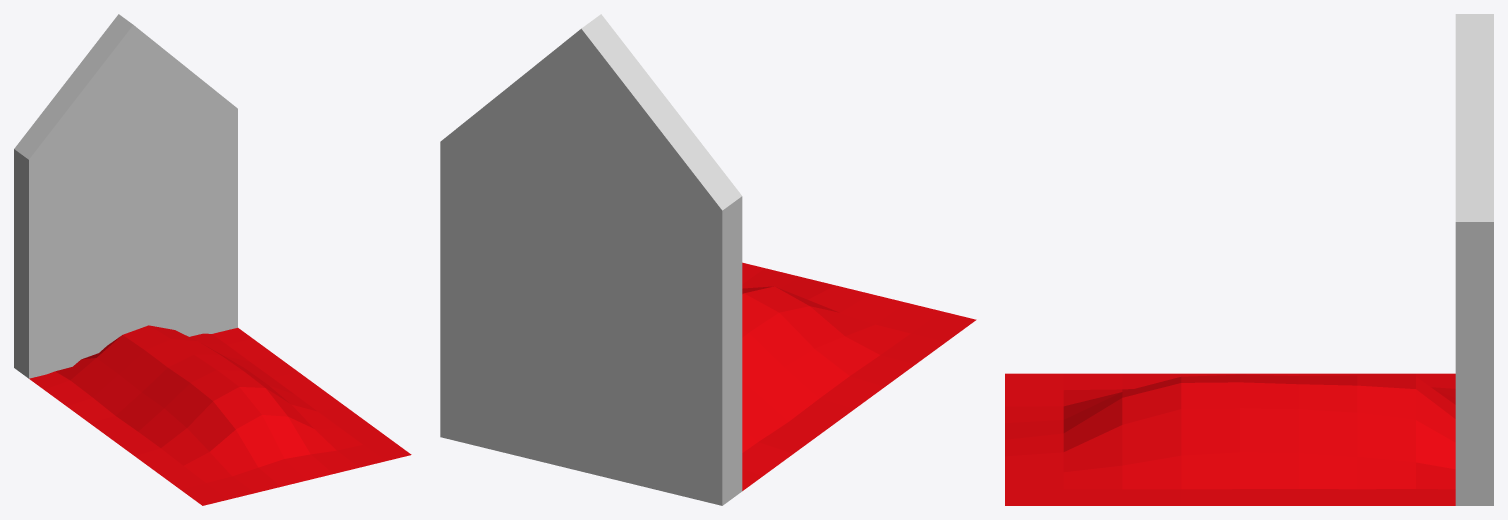
Rendered from Grave_01.fbx.
The picture shows the model from 3 angles, left to right: view 1: azimuth 30°, elevation 25°; view 2: azimuth 150°, elevation 25°; view 3: azimuth 270°, elevation 25°; orthographic projection. The views are drawn at different scales.
Visible parts, largest first — view 1: Cube.003, Plane; view 2: Cube.003, Plane; view 3: Plane, Cube.003.
Boxes of the visible parts, bbox=[...] form: Cube.003: bbox=[14, 14, 237, 378]; Plane: bbox=[29, 325, 411, 505]; Cube.003: bbox=[440, 14, 742, 505]; Plane: bbox=[742, 262, 976, 490]; Plane: bbox=[1005, 373, 1455, 505]; Cube.003: bbox=[1455, 14, 1493, 505].
Bounding box in the file's own units: 2 × 3 × 3.12.
